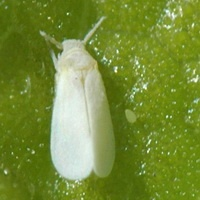insect: (40, 16, 114, 179)
